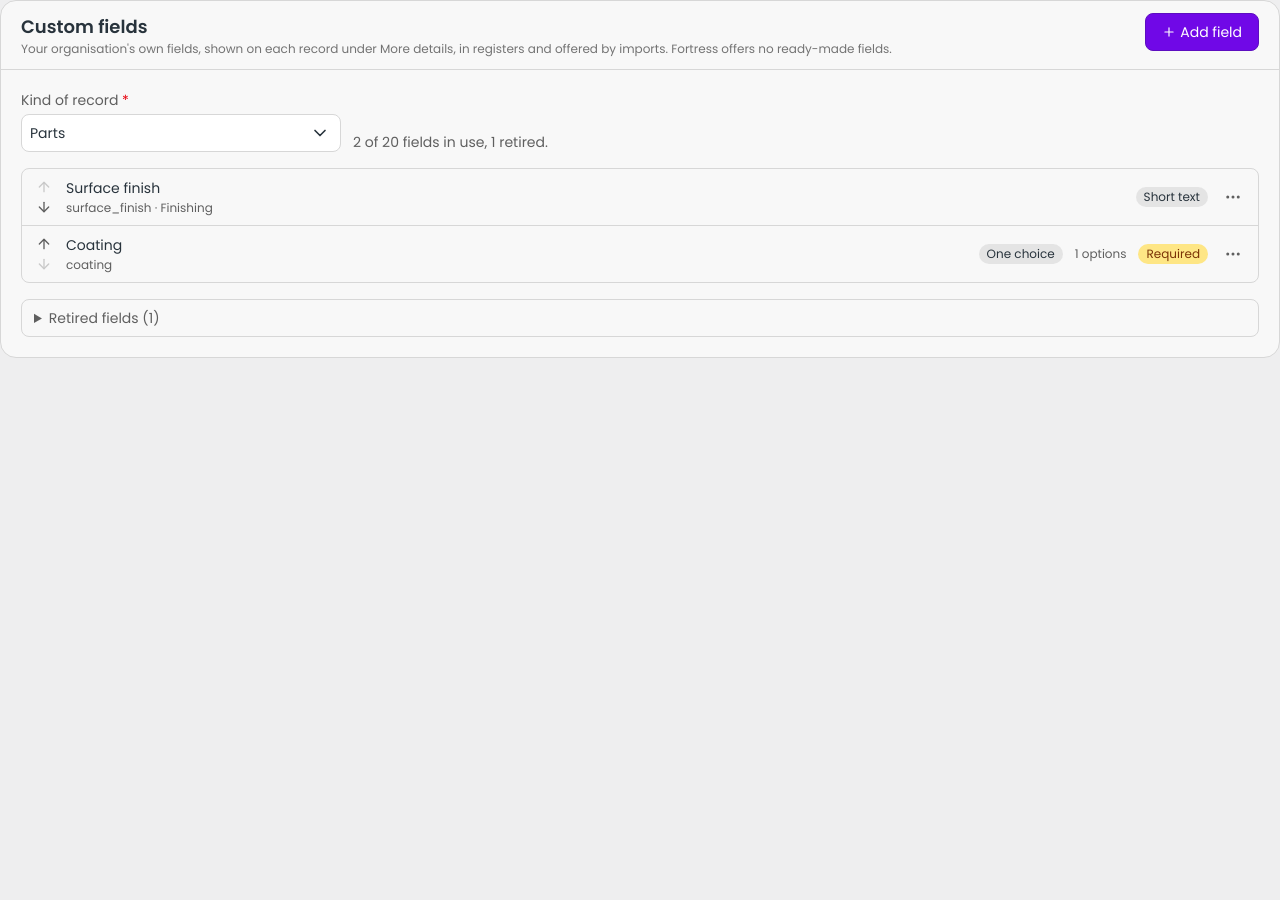
Scenario: Settings → Custom fields › keeps the type fixed when editing and switches saved options off instead of removing them
This screenshot has width=1280, height=900.
Later steps or results of the test are not shown.
Click the button named "Actions" in the row of "One choice" at (1233, 254), box left=1220, top=241, right=1246, bottom=267
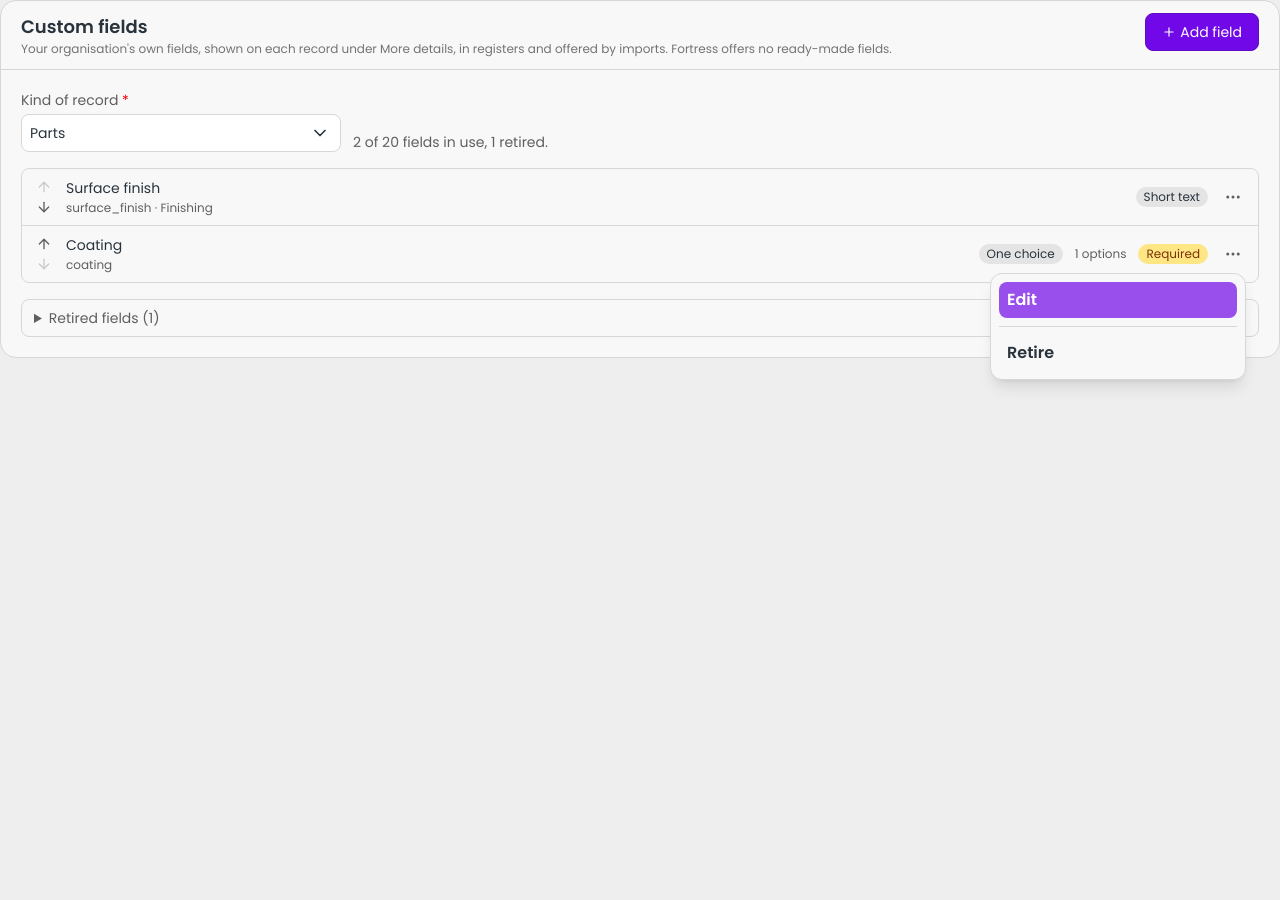
Click the menu item "Edit" at (1118, 300), box left=999, top=282, right=1237, bottom=318
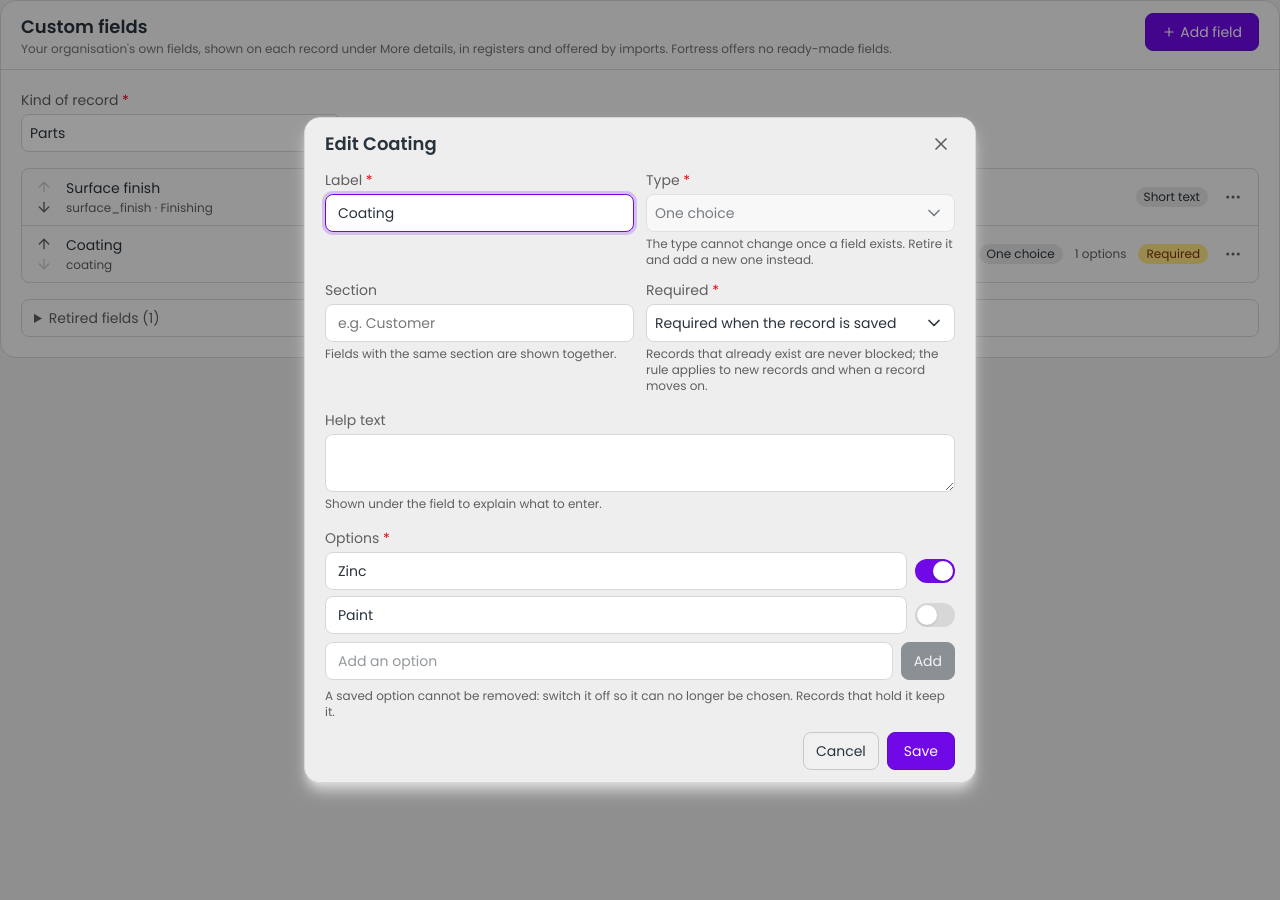
Result: the dropdown labelled "Type" is disabled at left=655, top=202, right=910, bottom=224
